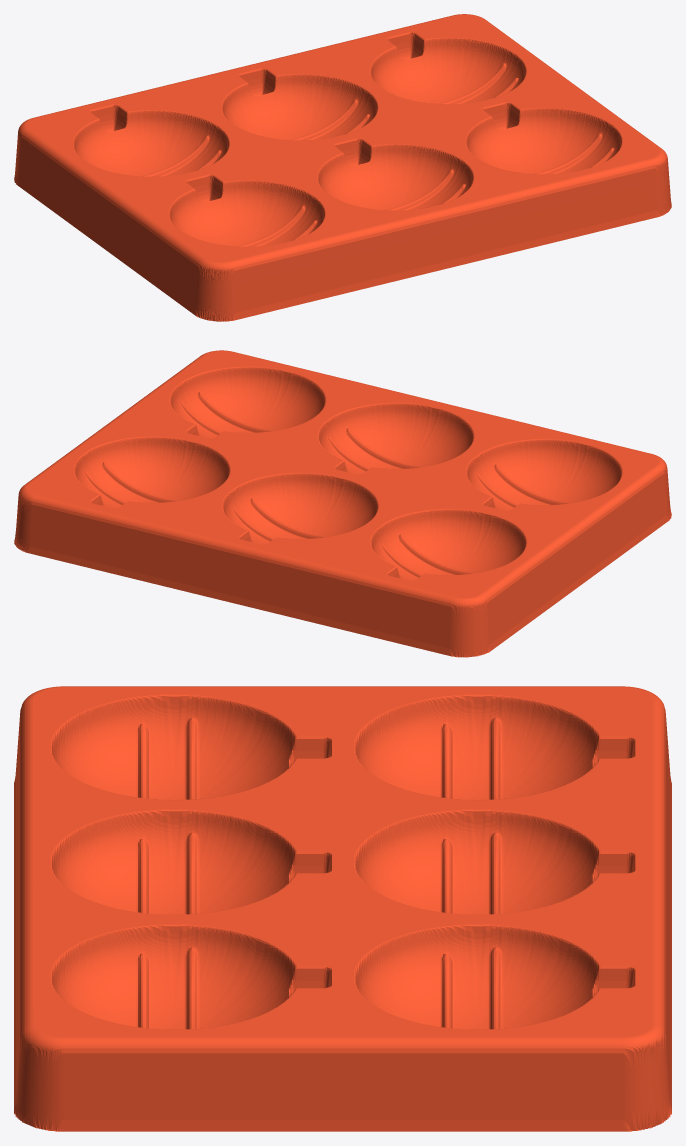
Rendered from mold.glb.
3 renders of one model, top to bottom at view 1: azimuth 30°, elevation 25°; view 2: azimuth 150°, elevation 25°; view 3: azimuth 270°, elevation 25°, orthographic. The views are drawn at different scales.
Visible parts, largest first — view 1: geometry_0; view 2: geometry_0; view 3: geometry_0.
Boxes of the visible parts, x1,y1,x2,y2 form: geometry_0: [14, 14, 671, 321]; geometry_0: [14, 350, 671, 657]; geometry_0: [14, 686, 671, 1131].
Bounding box in the file's own units: 0.1595 × 0.0175 × 0.1211.
